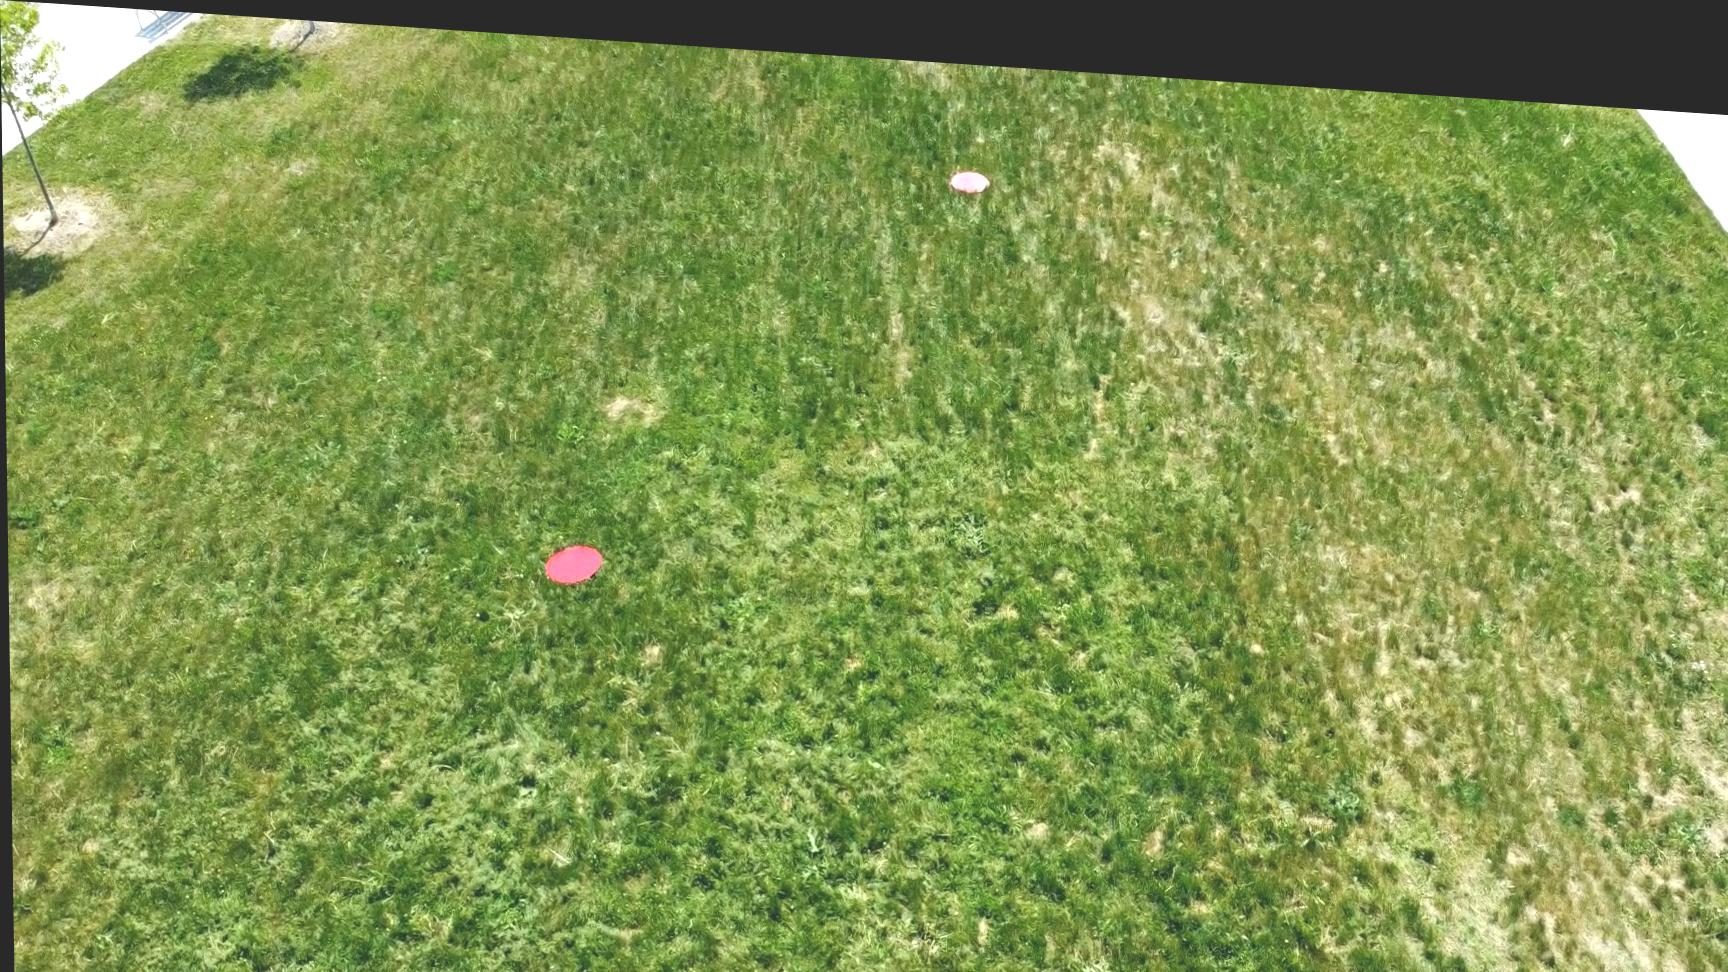Red: (541, 533, 604, 580), (948, 155, 991, 182)
